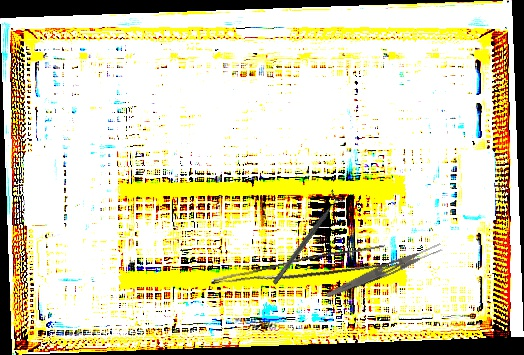Dressing Forceps: (324, 240, 445, 303)
Fixation Ring: (267, 188, 346, 289)
Tissue Forceps: (210, 239, 390, 305)
